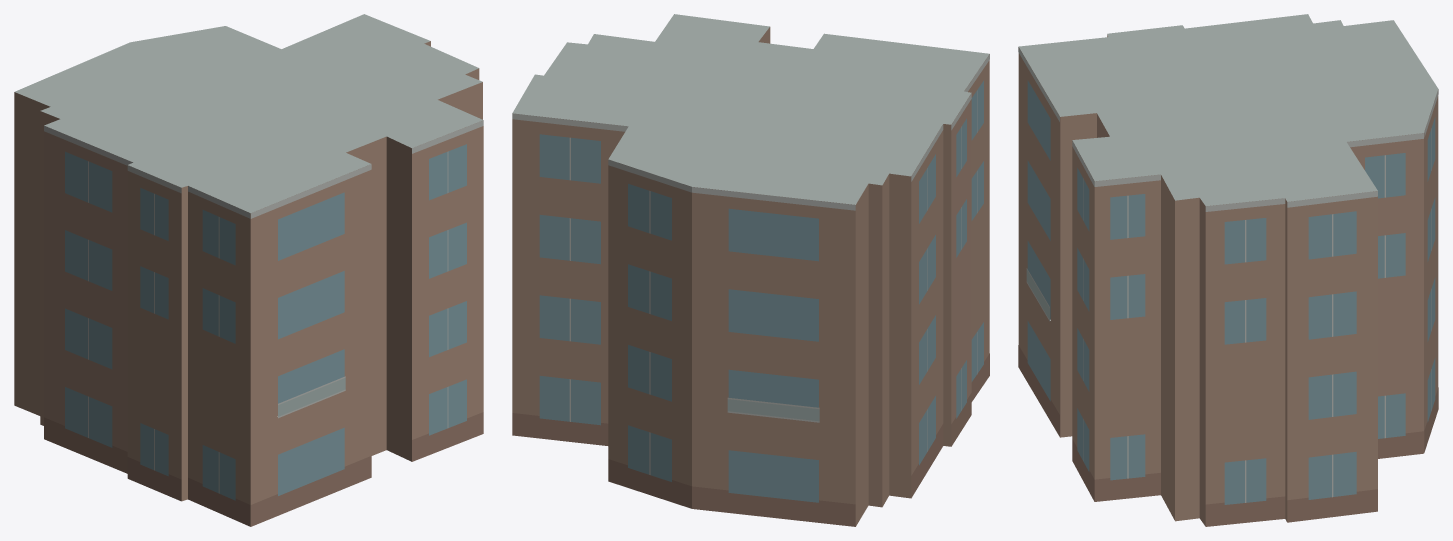
Rendered from survey-upis-32562712.glb.
3 renders of one model, left to right at view 1: azimuth 30°, elevation 25°; view 2: azimuth 150°, elevation 25°; view 3: azimuth 270°, elevation 25°, orthographic. The views are drawn at different scales.
Visible parts, largest first — view 1: survey-upis-32562712.tmp; view 2: survey-upis-32562712.tmp; view 3: survey-upis-32562712.tmp.
Boxes of the visible parts, x1,y1,x2,y2 form: survey-upis-32562712.tmp: (14, 14, 483, 526); survey-upis-32562712.tmp: (512, 14, 989, 526); survey-upis-32562712.tmp: (1018, 14, 1438, 526).
Size of the model in its own units: 17.23 by 13.4 by 15.91.
